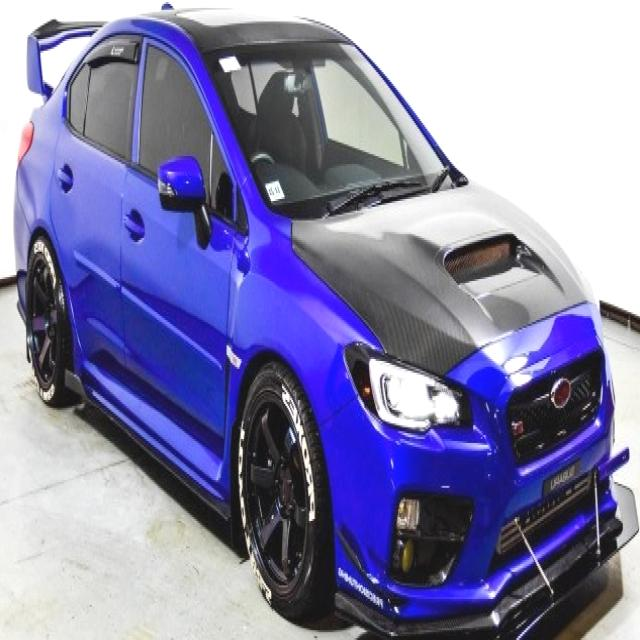blue: (13, 0, 630, 640)
